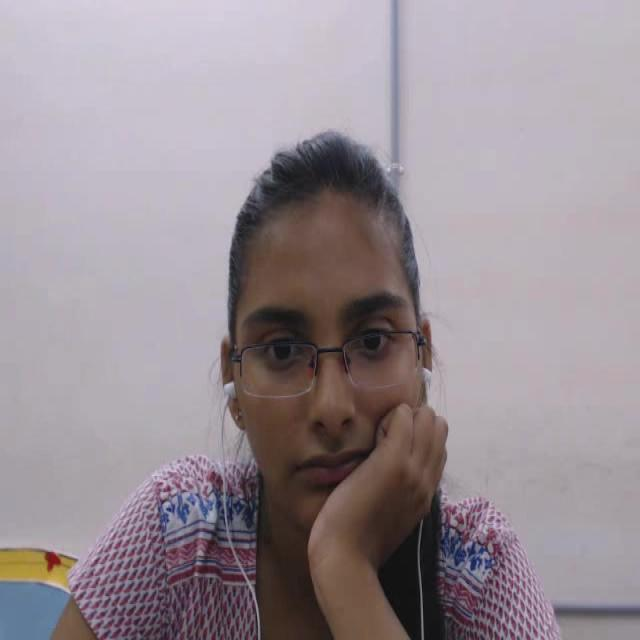Bored: (190, 113, 475, 575)
